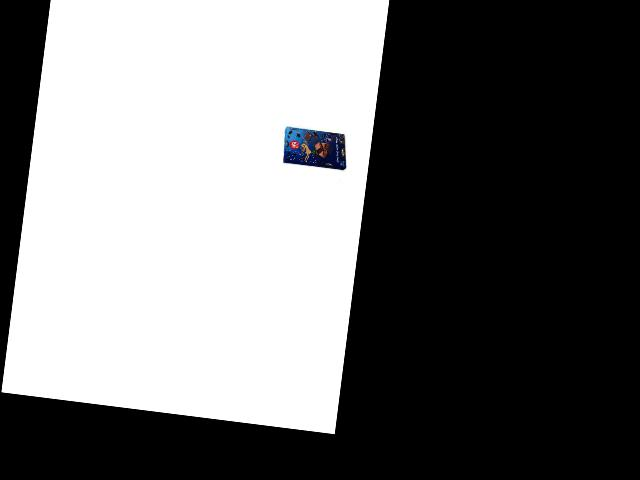chocolate: (279, 121, 350, 174)
